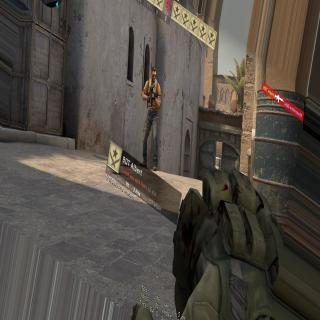T-Body: (139, 66, 163, 167)
T-Head: (150, 67, 158, 81)
